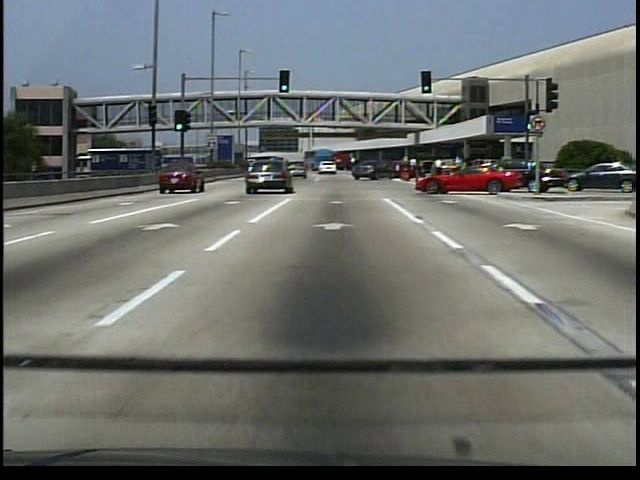person: (409, 158, 419, 182), (435, 159, 444, 177), (228, 111, 235, 126)
